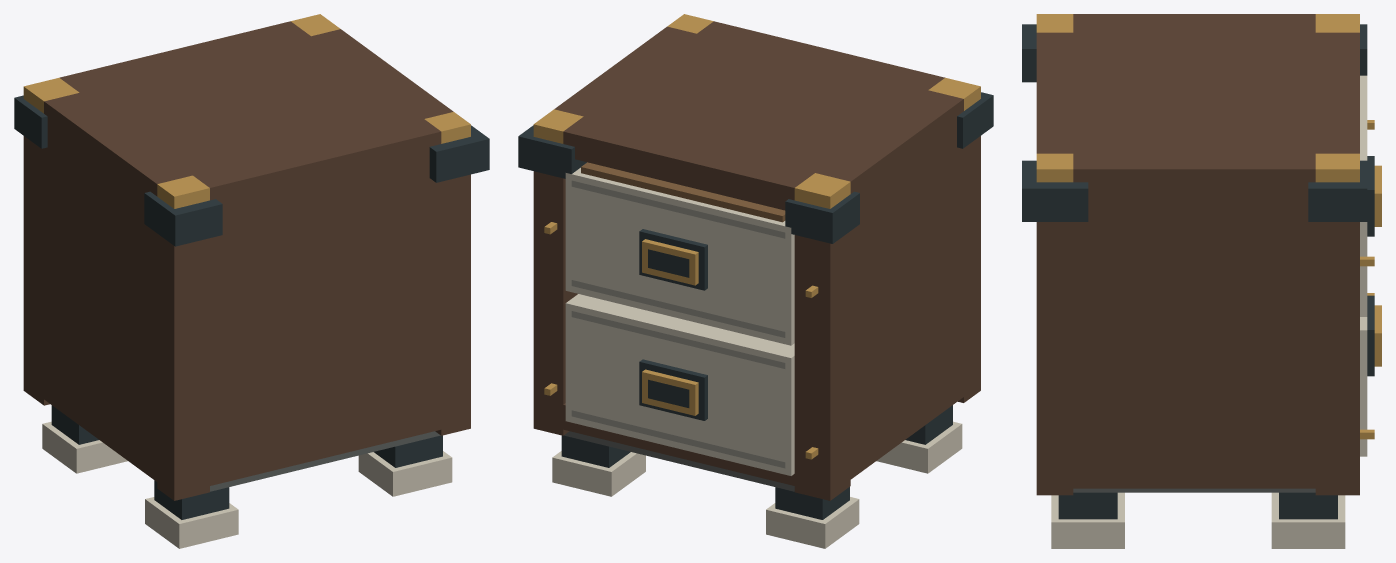
3 renders of one model, left to right at view 1: azimuth 30°, elevation 25°; view 2: azimuth 150°, elevation 25°; view 3: azimuth 270°, elevation 25°, orthographic. The views are drawn at different scales.
Parts seen in each view (by area): view 1: 床边收纳柜; view 2: 床边收纳柜; view 3: 床边收纳柜.
Boxes of the visible parts, x1,y1,x2,y2 form: 床边收纳柜: [14, 14, 489, 548]; 床边收纳柜: [518, 14, 993, 548]; 床边收纳柜: [1022, 14, 1381, 548].
Size of the model in its own units: 0.53 by 0.58 by 0.49.
7 materials, 7 textured.
